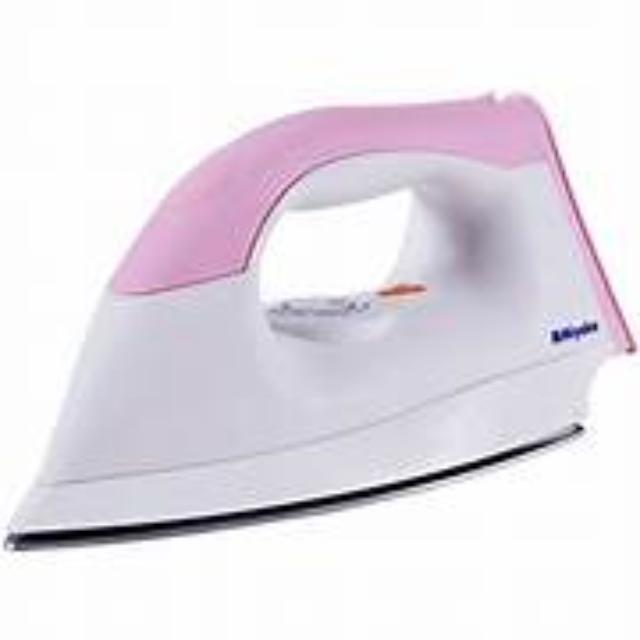Clothes-Iron: (6, 82, 634, 558)
